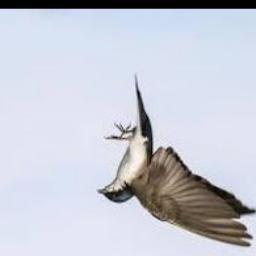Swallow: (98, 73, 256, 247)
